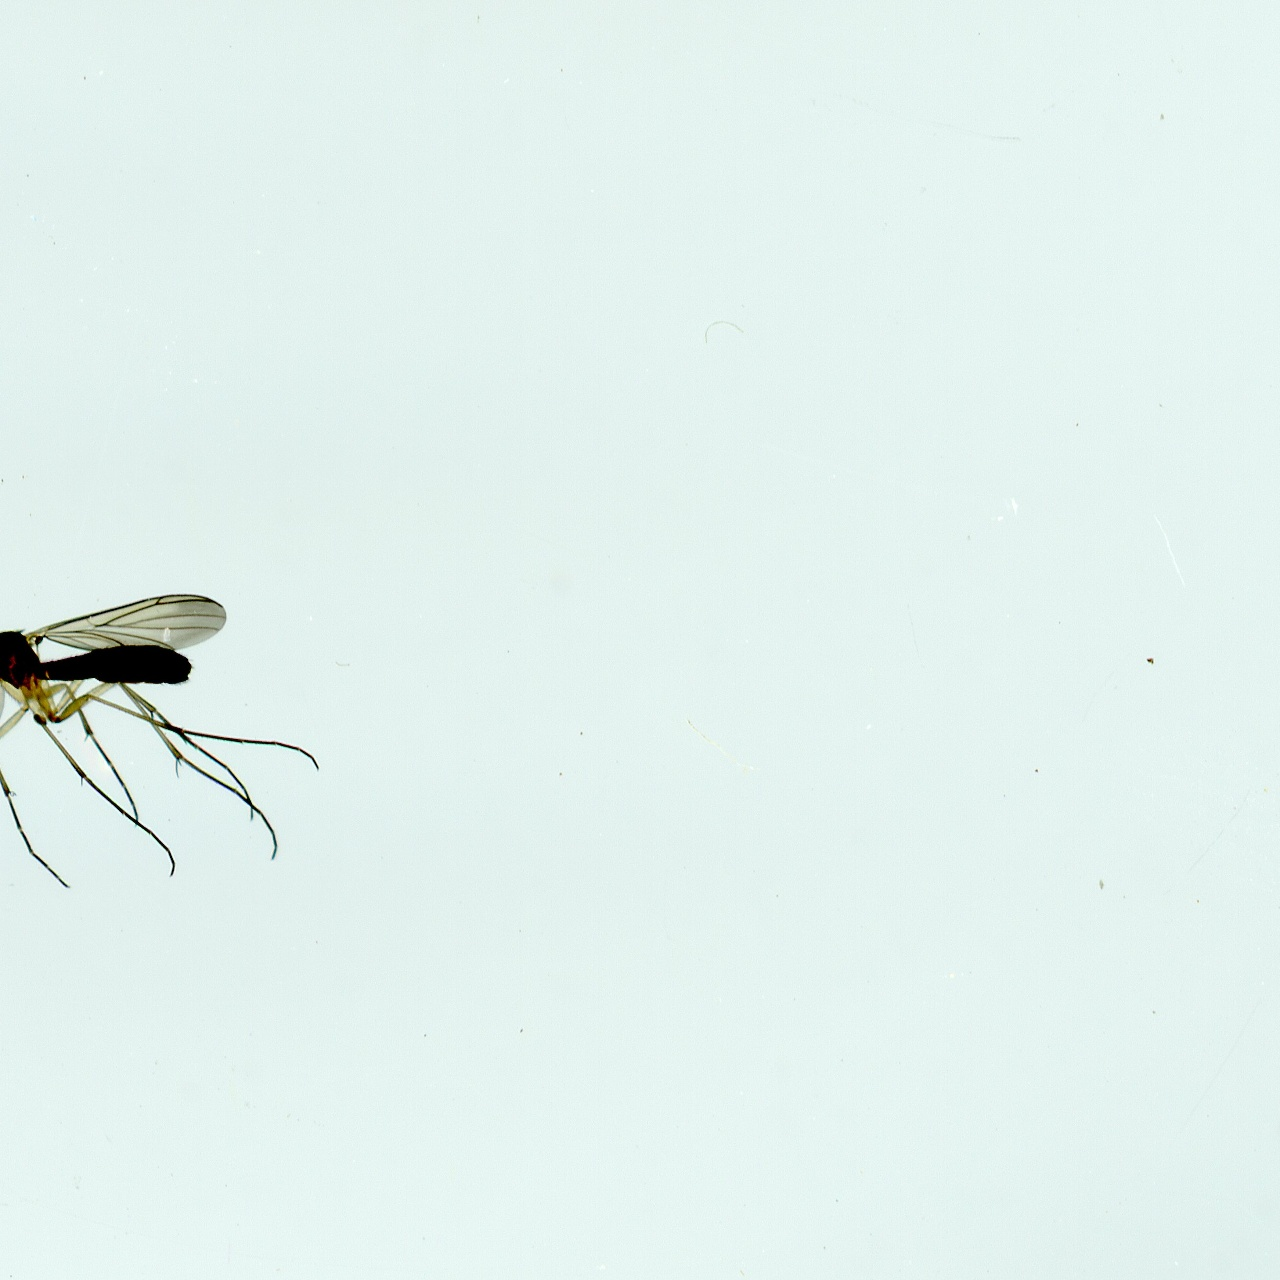arthropod: (0, 588, 326, 893)
